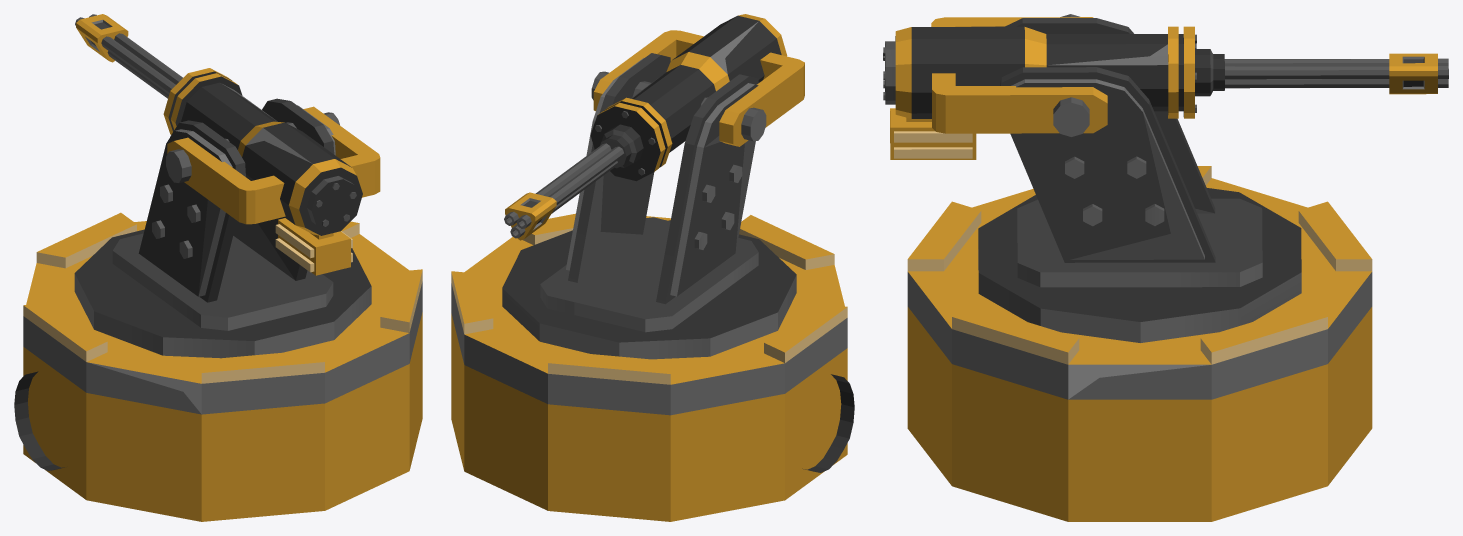
The model's file is Yellow Turret.fbx.
3 renders of one model, left to right at view 1: azimuth 30°, elevation 25°; view 2: azimuth 150°, elevation 25°; view 3: azimuth 270°, elevation 25°, orthographic. The views are drawn at different scales.
Parts seen in each view (by area): view 1: tower_minigun_yellow_1.002, top_minigun_yellow_1.002, top_minigun_yellow_1.006; view 2: tower_minigun_yellow_1.002, top_minigun_yellow_1.002, top_minigun_yellow_1.006; view 3: tower_minigun_yellow_1.002, top_minigun_yellow_1.002, top_minigun_yellow_1.006.
Boxes of the visible parts, x1,y1,x2,y2 form: tower_minigun_yellow_1.002: [14, 212, 422, 521]; top_minigun_yellow_1.002: [74, 98, 371, 358]; top_minigun_yellow_1.006: [75, 14, 380, 275]; tower_minigun_yellow_1.002: [451, 213, 854, 521]; top_minigun_yellow_1.002: [502, 53, 796, 359]; top_minigun_yellow_1.006: [504, 14, 804, 240]; tower_minigun_yellow_1.002: [907, 166, 1372, 521]; top_minigun_yellow_1.002: [978, 18, 1301, 342]; top_minigun_yellow_1.006: [883, 14, 1448, 159].
Size of the model in its own units: 5.46 by 5.18 by 6.71.
Materials: 1 (1 with a texture image).
